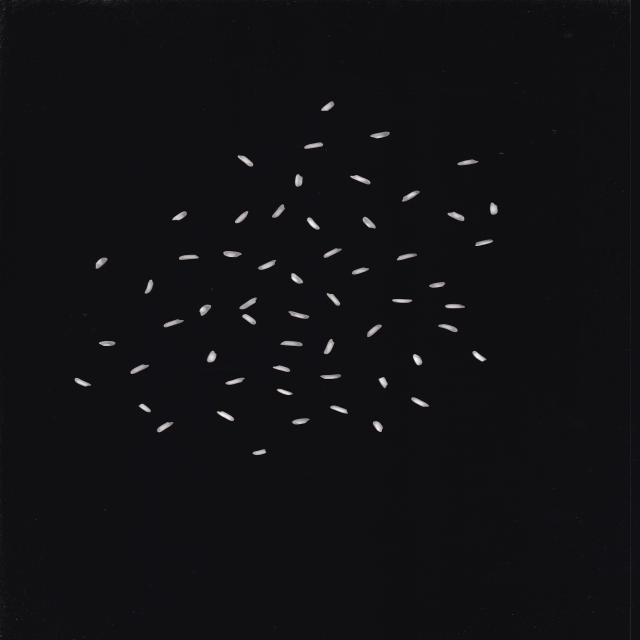Chalky: (238, 297, 258, 310), (401, 190, 421, 202), (130, 364, 150, 375), (236, 155, 254, 167), (156, 421, 174, 433), (350, 175, 371, 185), (271, 204, 286, 218), (367, 324, 382, 338), (257, 260, 277, 270), (234, 210, 249, 223), (326, 293, 341, 306), (323, 248, 342, 258), (216, 411, 235, 421), (163, 319, 184, 328), (362, 216, 376, 229), (306, 217, 320, 230), (320, 100, 335, 112), (323, 339, 335, 354), (329, 405, 349, 414), (411, 397, 429, 407), (447, 212, 465, 222), (369, 131, 391, 139), (396, 253, 418, 261), (303, 142, 324, 150), (288, 311, 309, 319), (472, 351, 487, 362), (222, 250, 242, 258), (225, 377, 245, 385), (172, 211, 188, 221), (438, 324, 458, 332), (95, 257, 108, 269), (290, 273, 304, 284), (242, 314, 256, 325), (457, 159, 479, 166), (75, 378, 92, 387), (144, 279, 154, 294), (206, 350, 218, 362), (199, 304, 211, 316), (474, 239, 494, 246), (319, 374, 342, 380), (352, 267, 369, 275), (276, 388, 293, 396), (178, 254, 200, 260), (294, 174, 304, 187), (138, 403, 151, 413), (272, 365, 290, 372), (292, 418, 310, 425), (372, 421, 383, 432), (279, 341, 303, 346), (412, 354, 422, 366), (392, 298, 413, 303), (490, 202, 498, 215), (379, 377, 388, 388), (429, 282, 445, 288), (252, 449, 267, 455), (444, 304, 466, 308), (98, 341, 115, 346)
